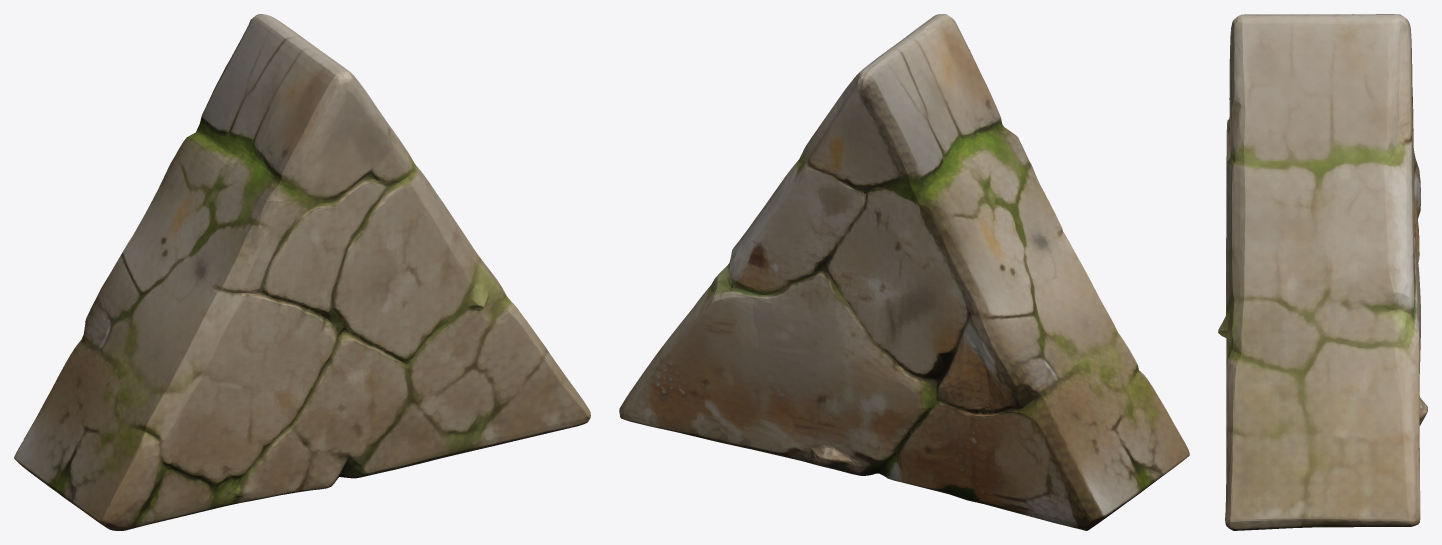
Rendered from Fulcrum2.glb.
3 renders of one model, left to right at view 1: azimuth 30°, elevation 25°; view 2: azimuth 150°, elevation 25°; view 3: azimuth 270°, elevation 25°, orthographic.
Parts seen in each view (by area): view 1: world; view 2: world; view 3: world.
Part boxes in pixels (x1,y1,x2,y2): world: (14, 14, 590, 530); world: (619, 14, 1189, 530); world: (1218, 14, 1427, 530).
Bounding box in the file's own units: 0.9994 × 0.7973 × 0.3772.
Materials: 1 (1 with a texture image).
